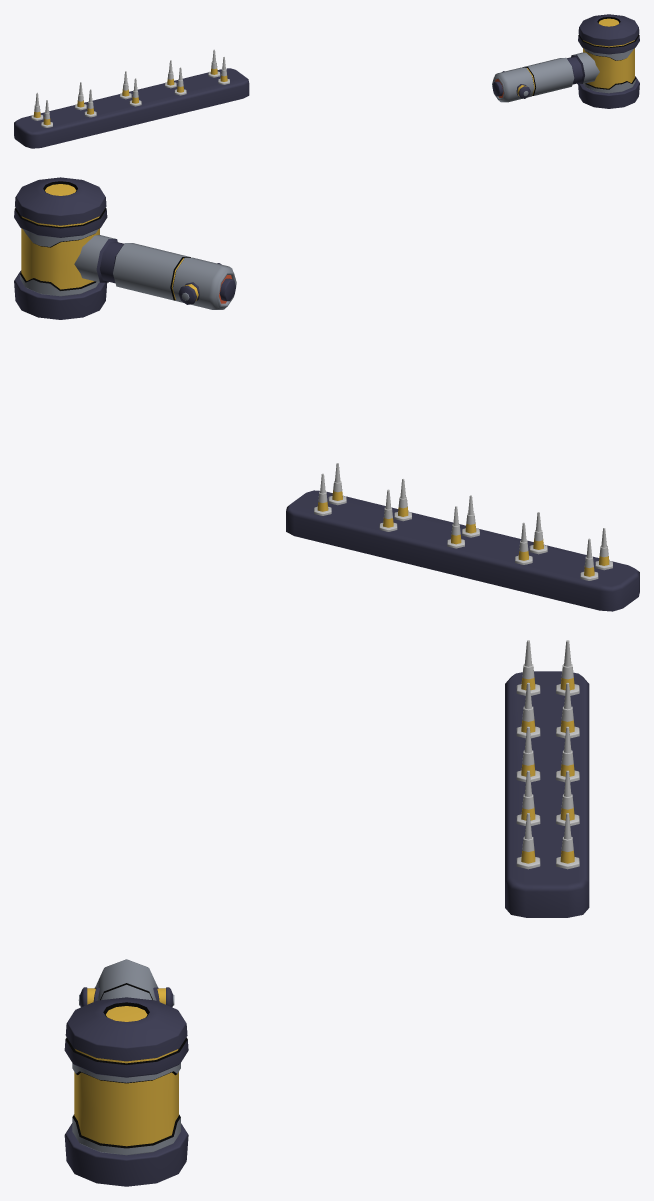
Rendered from Level28_Objects.fbx.
The picture shows the model from 3 angles, top to bottom: view 1: azimuth 30°, elevation 25°; view 2: azimuth 150°, elevation 25°; view 3: azimuth 270°, elevation 25°; orthographic projection. The views are drawn at different scales.
Visible parts, largest first — view 1: Base, pCylinder13, pCylinder14; view 2: Base, pCylinder13, pCylinder14; view 3: pCylinder13, Base, pCylinder14.
Part boxes in pixels (<box>): Base: <box>14,68,249,148</box>; pCylinder13: <box>578,14,639,108</box>; pCylinder14: <box>492,52,599,102</box>; Base: <box>286,490,639,611</box>; pCylinder13: <box>14,177,107,319</box>; pCylinder14: <box>74,235,236,309</box>; pCylinder13: <box>64,997,188,1186</box>; Base: <box>505,671,589,917</box>; pCylinder14: <box>95,959,157,1000</box>.
Bounding box in the file's own units: 231 × 34.53 × 103.
